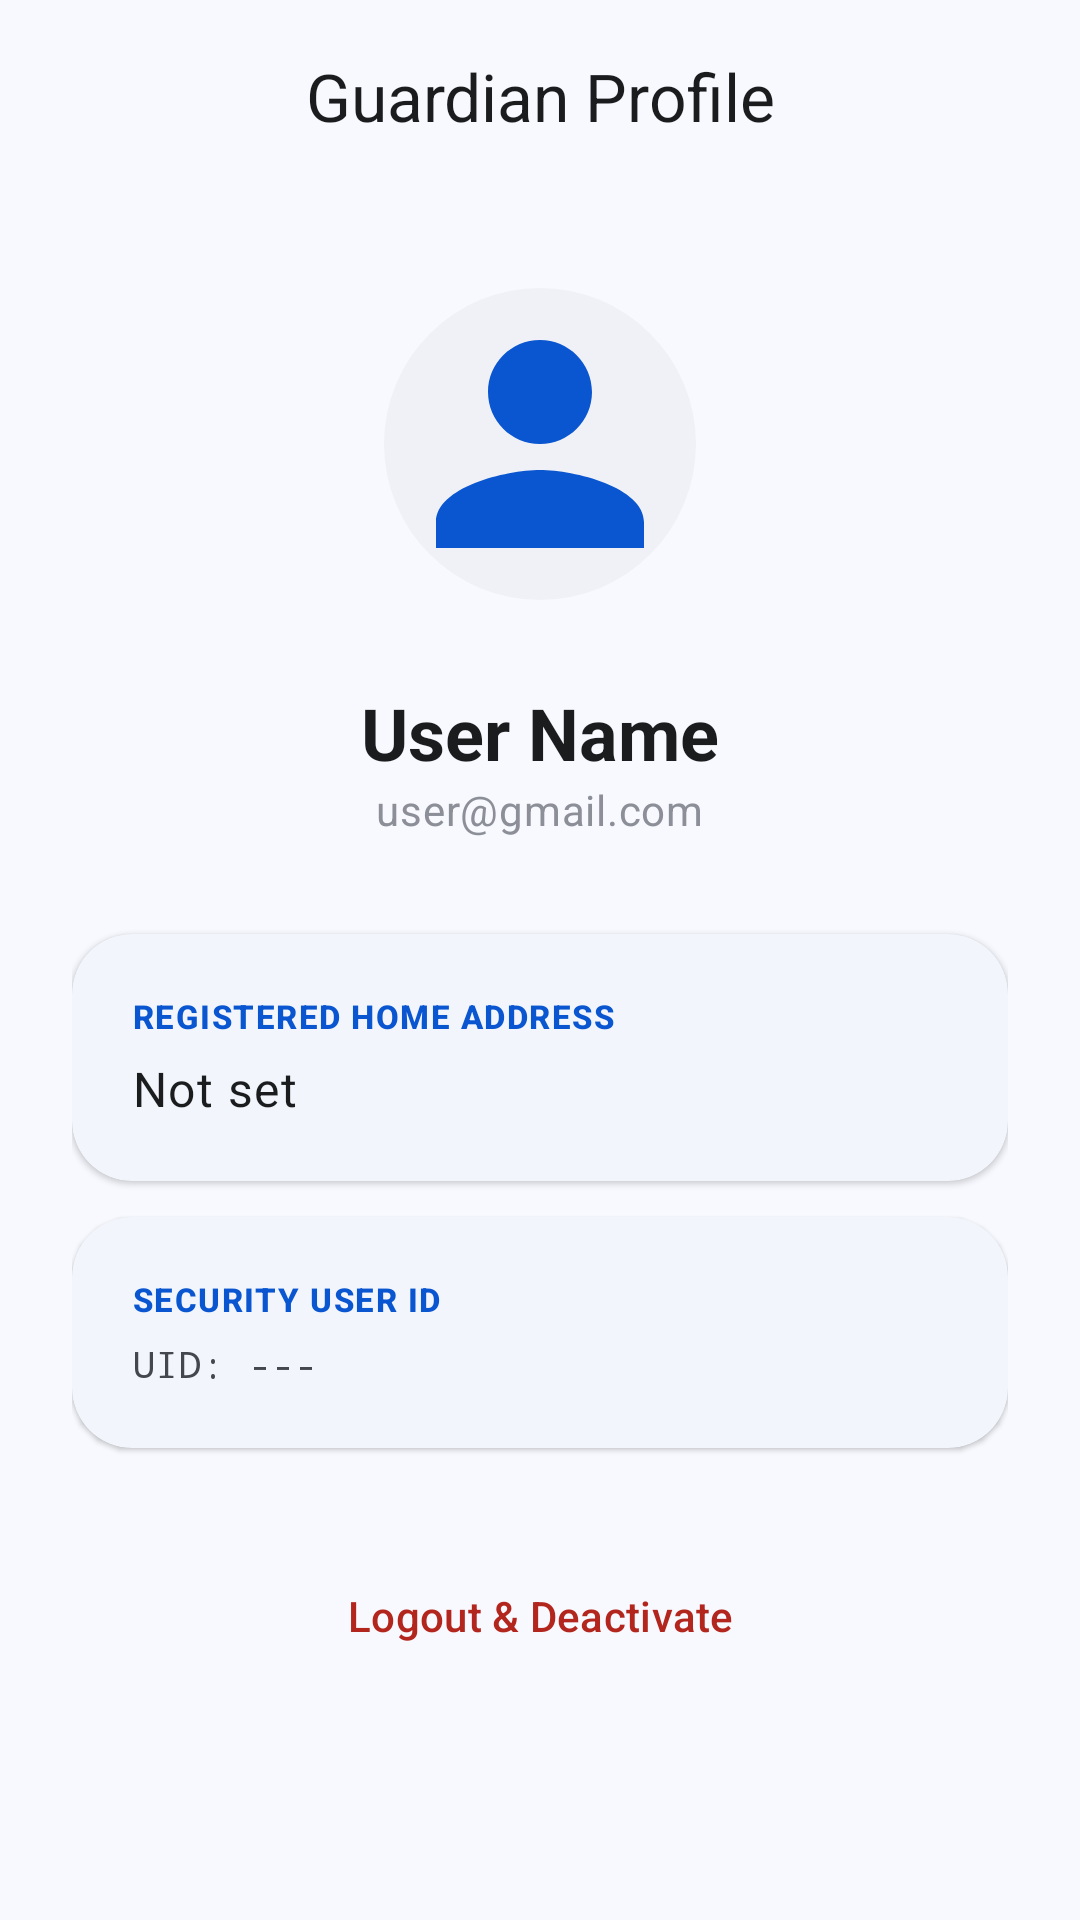

Screen size 1080*1920. Icon name, then its center in pixels as point (x, y):
contact: point (540, 444)
